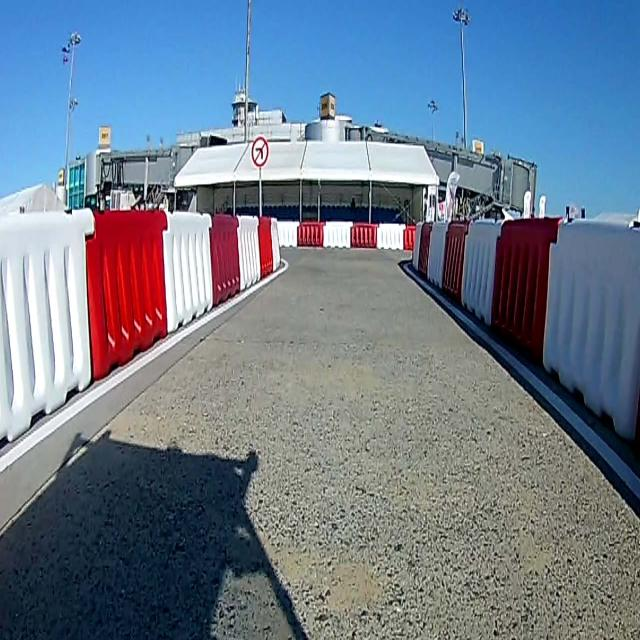soladonulmez: (251, 137, 269, 165)
